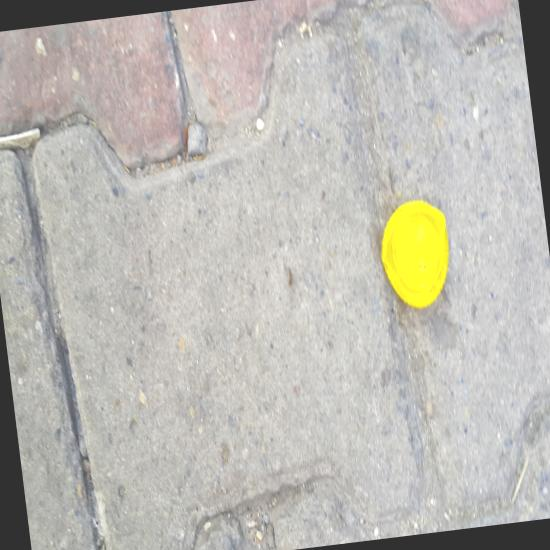Plastic film: (414, 221, 538, 532)
Plastic straw: (451, 147, 478, 528)
